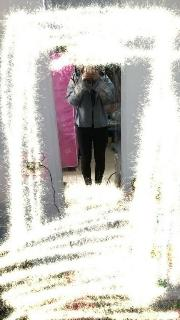long sleeve outwear: (67, 71, 116, 128)
trousers: (77, 123, 109, 185)
